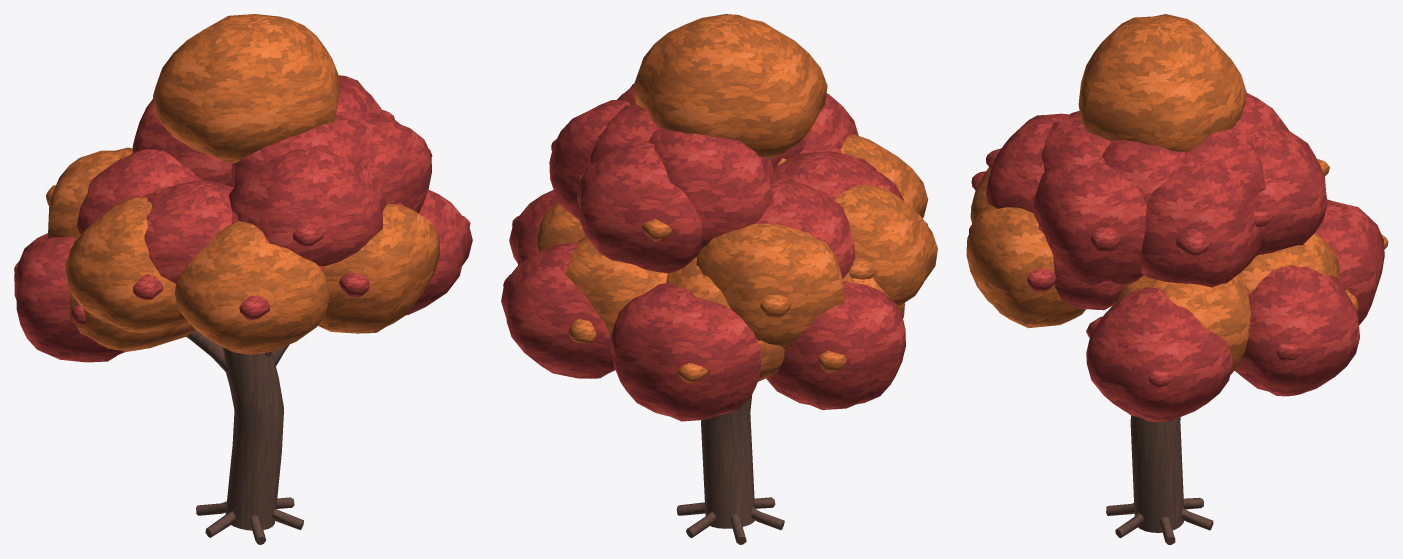
Rendered from tree_1.glb.
3 renders of one model, left to right at view 1: azimuth 30°, elevation 25°; view 2: azimuth 150°, elevation 25°; view 3: azimuth 270°, elevation 25°, orthographic.
Parts seen in each view (by area): view 1: tree_1; view 2: tree_1; view 3: tree_1.
Part boxes in pixels (left/top/right/bottom): tree_1: left=14, top=14, right=472, bottom=544; tree_1: left=501, top=14, right=937, bottom=544; tree_1: left=966, top=14, right=1388, bottom=544.
Size of the model in its own units: 6.01 by 6.83 by 5.26.
Materials: 1 (1 with a texture image).
